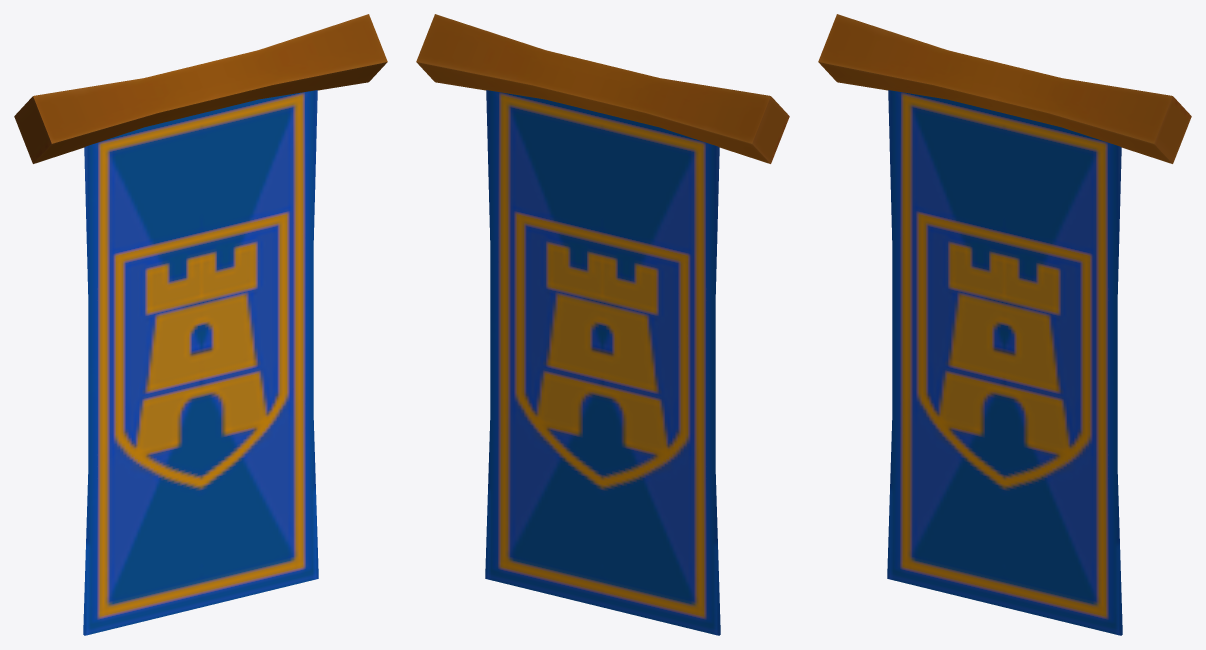
Rendered from HOS0910012.fbx.
3 views of the same model, side by side, from view 1: azimuth 30°, elevation 25°; view 2: azimuth 150°, elevation 25°; view 3: azimuth 330°, elevation 25° (orthographic).
Parts seen in each view (by area): view 1: smHOS0910012; view 2: smHOS0910012; view 3: smHOS0910012.
Boxes of the visible parts, x1,y1,x2,y2 form: smHOS0910012: [14, 14, 387, 635]; smHOS0910012: [416, 14, 789, 635]; smHOS0910012: [818, 14, 1191, 635].
Size of the model in its own units: 118 by 186 by 23.01.
1 material, 1 textured.
